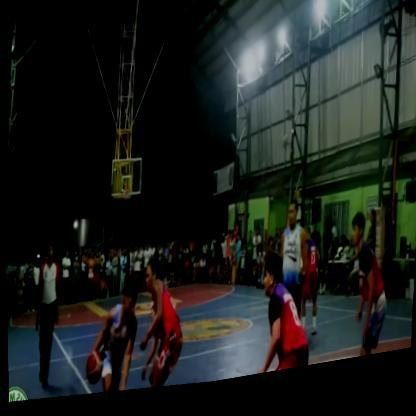basketball: (82, 349, 105, 391)
rim: (119, 187, 133, 215)
